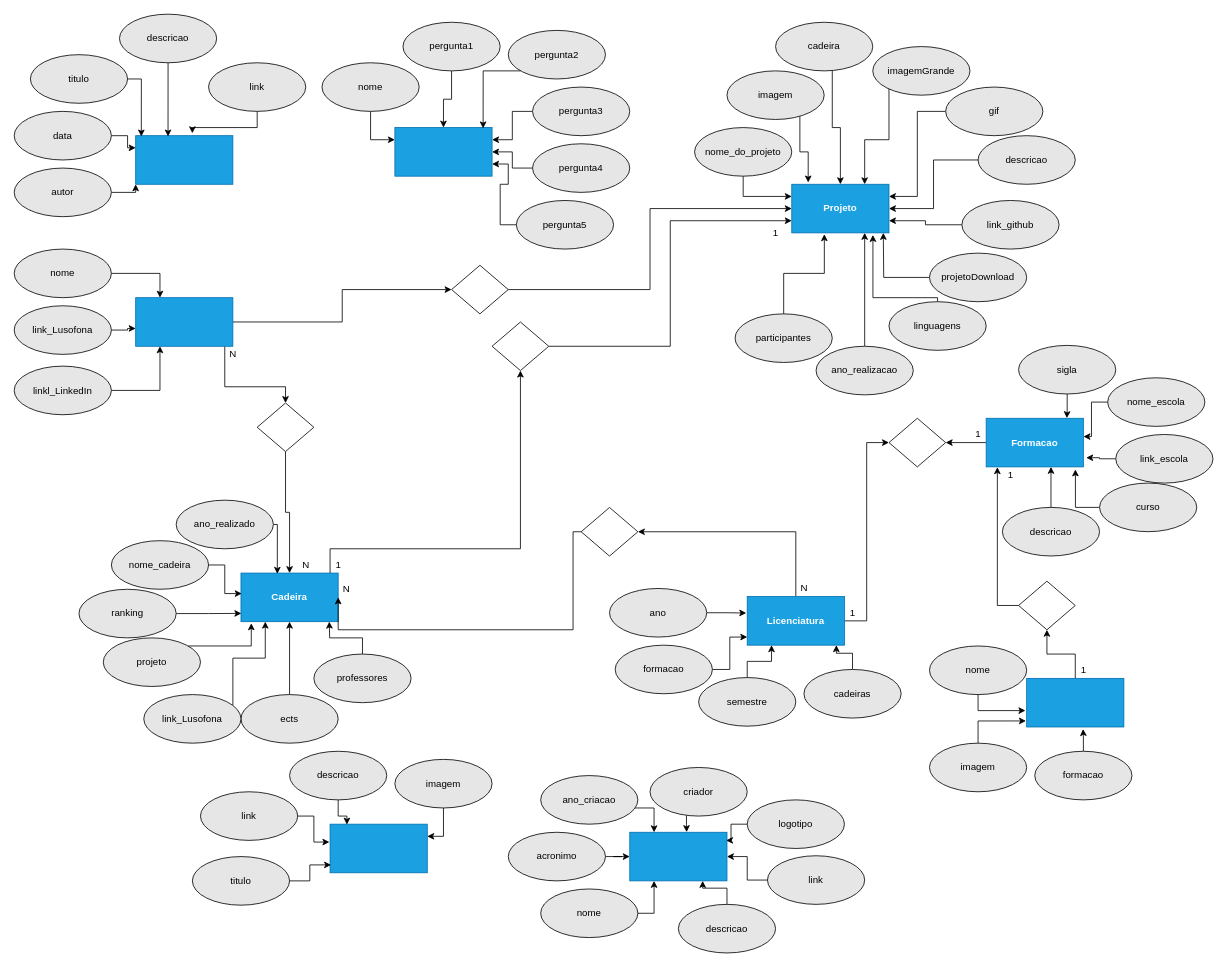
The diagram is 1227 pixels wide and 967 high, and some of its shapes have lost their labels. Each missing label, with the box of its shape:
Certificado: (1026, 678, 1124, 727)
Lecionam: (256, 402, 314, 452)
Noticias: (329, 823, 427, 873)
Obtem: (1018, 580, 1075, 630)
participam: (451, 264, 508, 314)
Pessoa: (135, 297, 233, 346)
Possui: (580, 507, 638, 556)
Post: (135, 135, 233, 184)
Quizz: (394, 127, 492, 176)
Tecnologias: (629, 831, 727, 881)
Tem: (888, 417, 946, 467)
têm: (491, 321, 549, 371)
